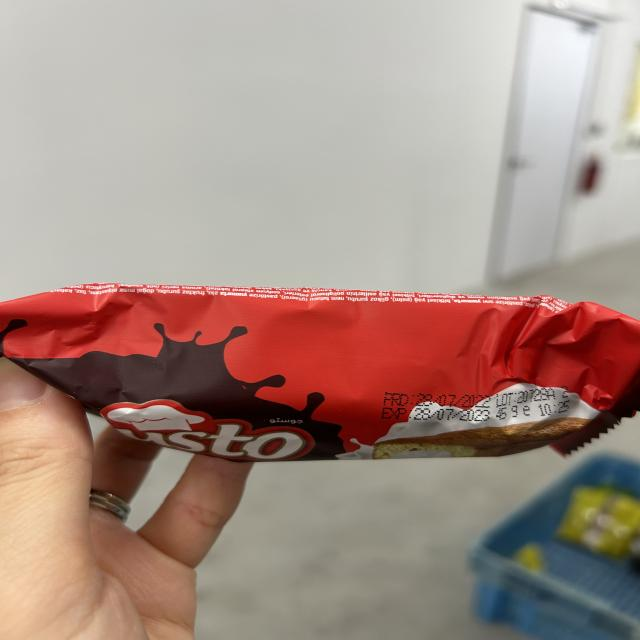object_name: (36, 294, 588, 435)
